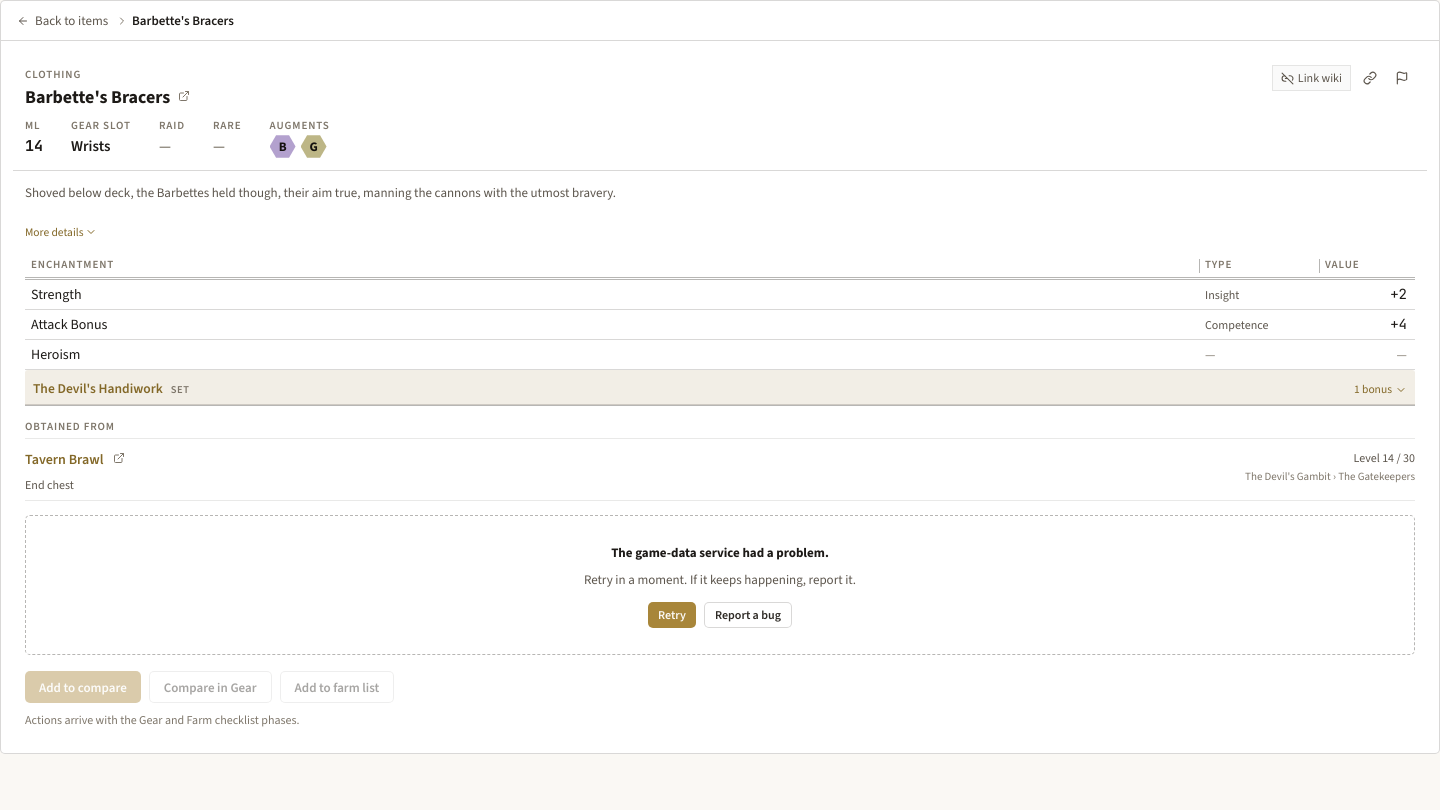
Test: keeps successful set content and reports the failed set path in the pane
Expected: the text "The game-data service had a problem." is shown, [611,543,829,562]
Expected: the row "The Devil's Handiwork Set 1 bonus" is shown, [25,370,1415,405]
What coordinates should you click on to do the following:
click the button "Retry"
I would click on:
 (672, 615)
Its box is [648,602,696,628].
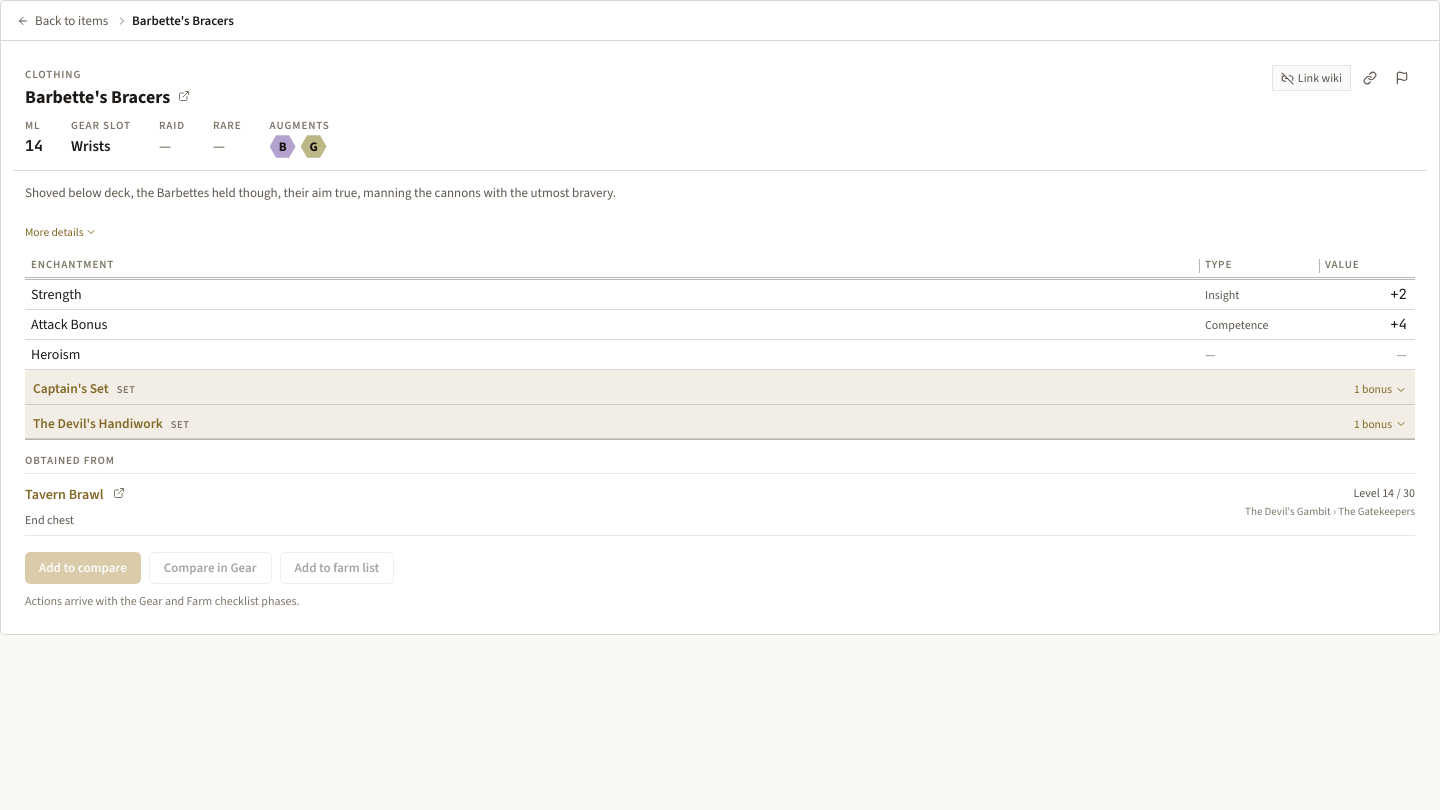
Now the row "Captain's Set Set 1 bonus" is shown, box [25,370,1415,405]
Now the link "Report a bug" is gone
